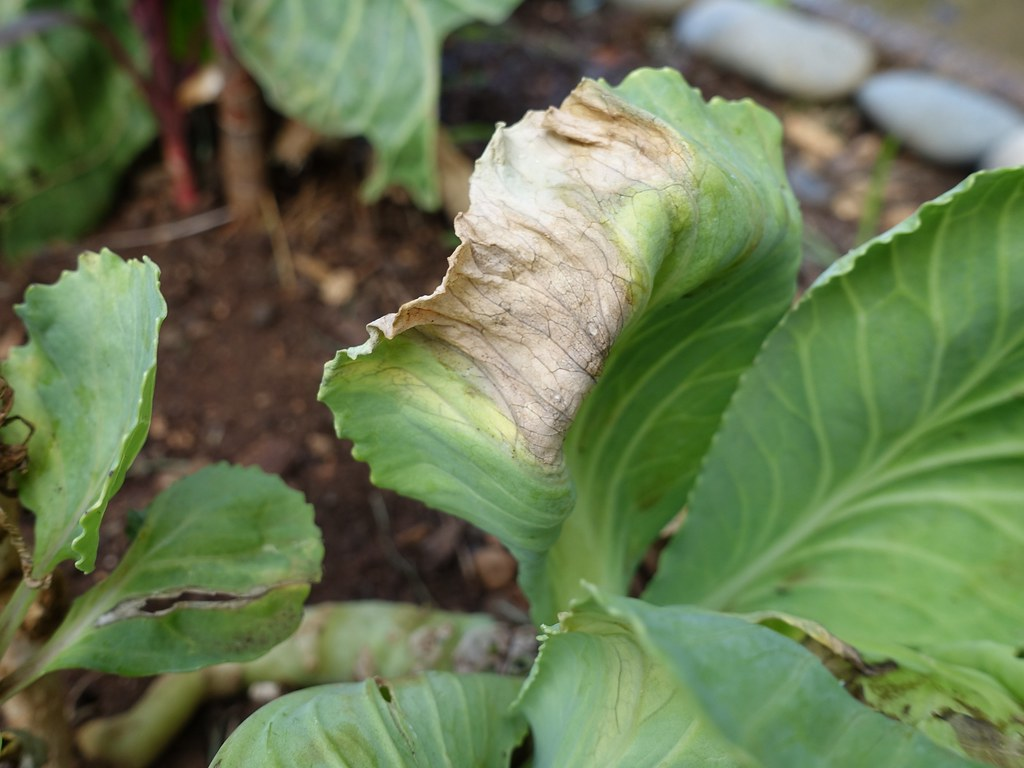Cabbage_BlackRotXantomonas: (400, 72, 734, 508), (58, 529, 357, 692)
